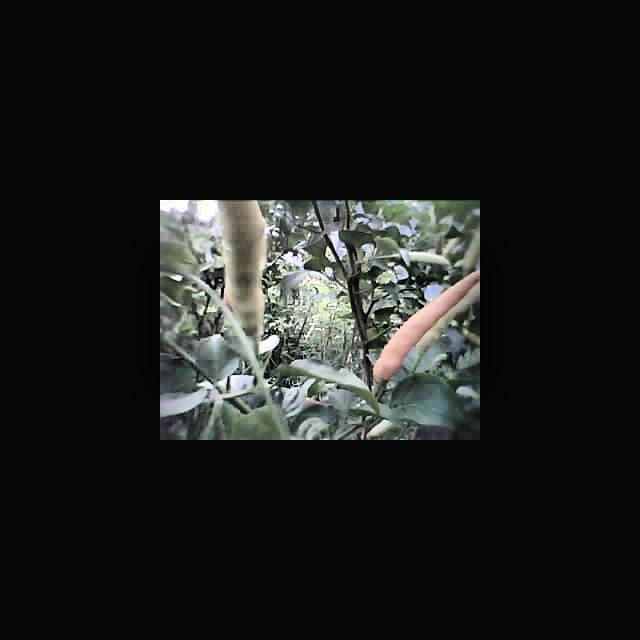Cabai: (363, 270, 479, 394)
